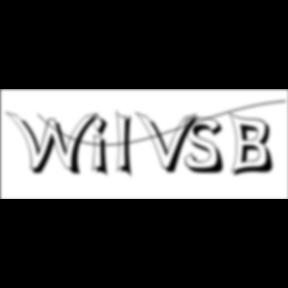B: (229, 111, 279, 179)
S: (185, 117, 231, 176)
V: (136, 110, 202, 176)
W: (6, 110, 104, 178)
i: (92, 112, 116, 180)
l: (116, 108, 140, 182)
